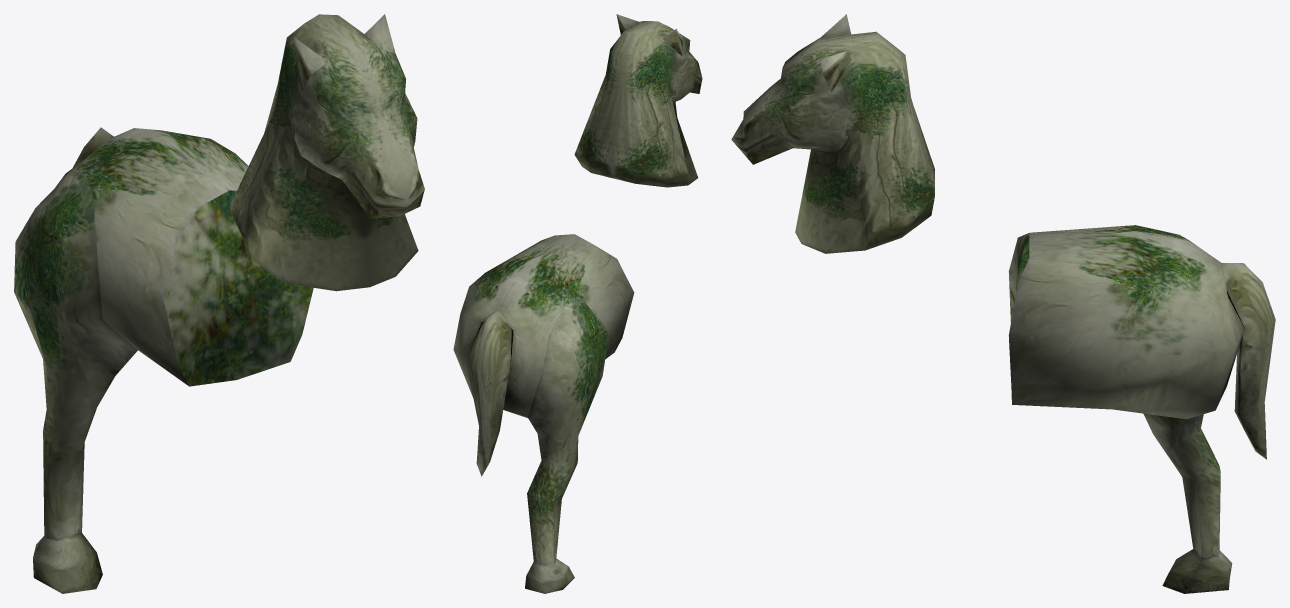
Rendered from StoneHorse.FBX.
The picture shows the model from 3 angles, left to right: view 1: azimuth 30°, elevation 25°; view 2: azimuth 150°, elevation 25°; view 3: azimuth 270°, elevation 25°; orthographic projection. The views are drawn at different scales.
Visible parts, largest first — view 1: Horse_ass, Horse_head; view 2: Horse_ass, Horse_head; view 3: Horse_ass, Horse_head.
Part boxes in pixels (x1,y1,x2,y2): Horse_ass: (14, 127, 313, 593); Horse_head: (229, 14, 424, 291); Horse_ass: (453, 234, 634, 593); Horse_head: (574, 14, 702, 187); Horse_ass: (1008, 225, 1275, 593); Horse_head: (731, 14, 934, 253).
Bounding box in the file's own units: 1049 × 3391 × 2910.
